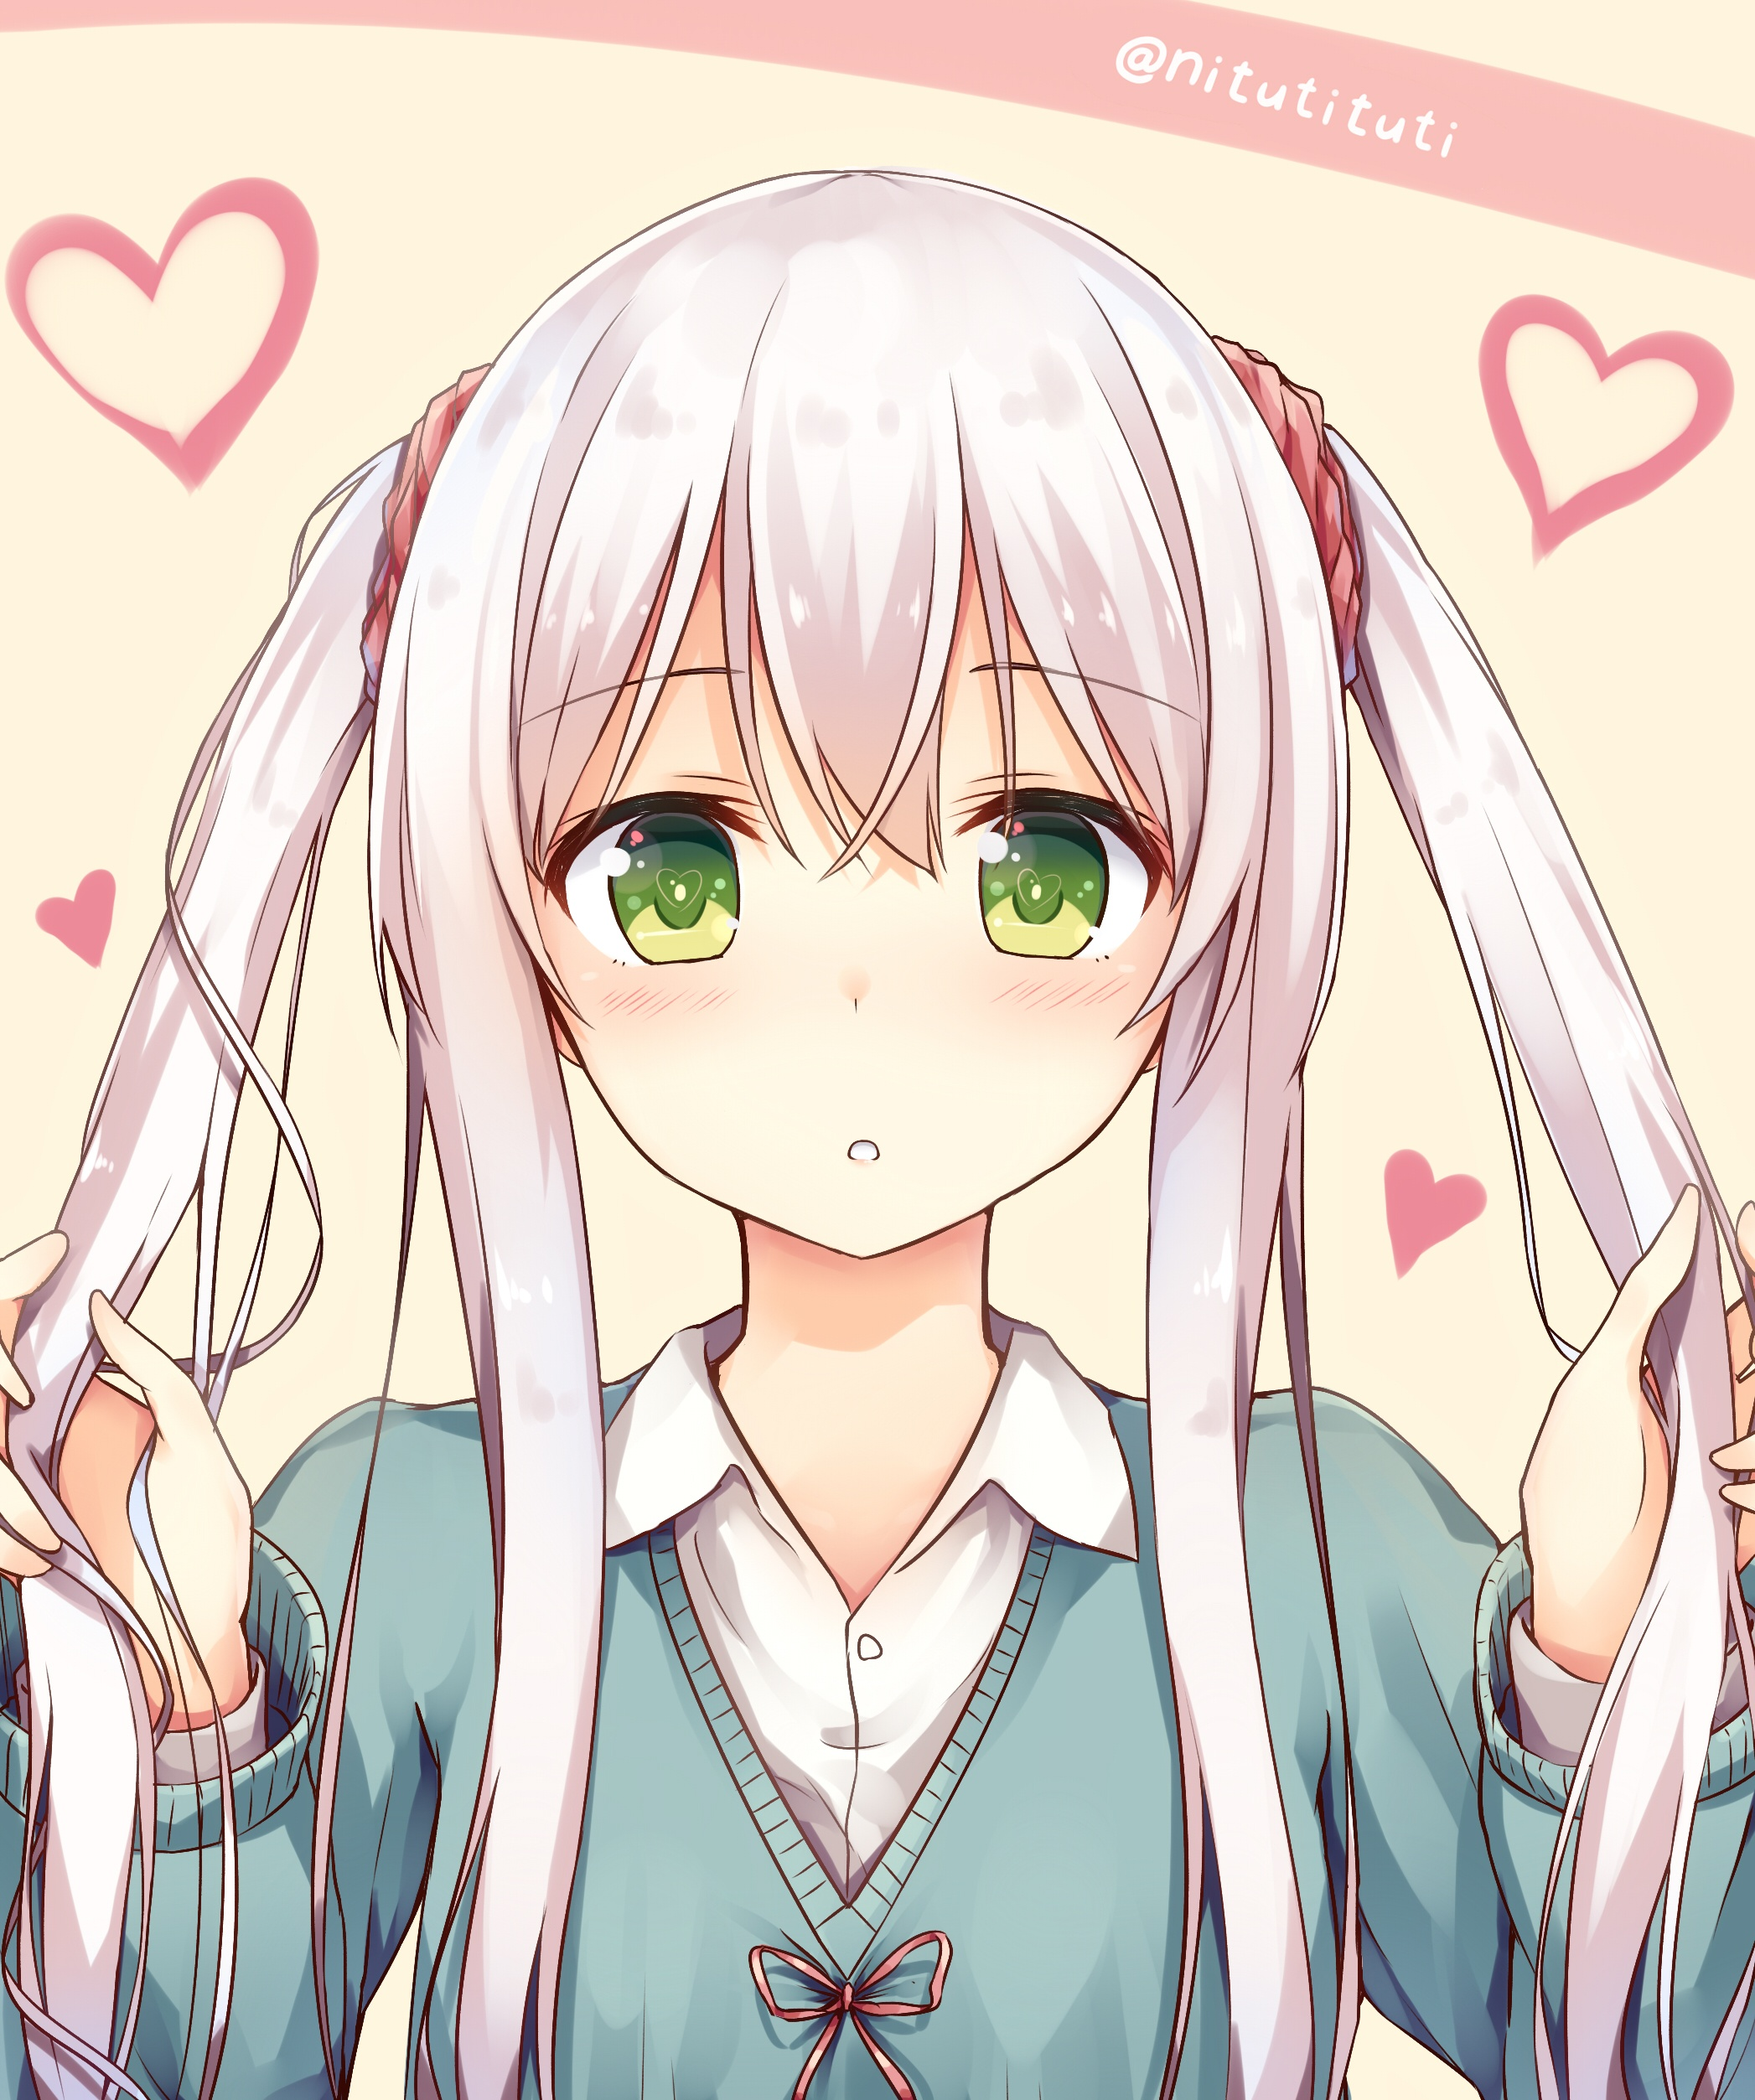纸片人正脸: (358, 133, 1370, 1285)
